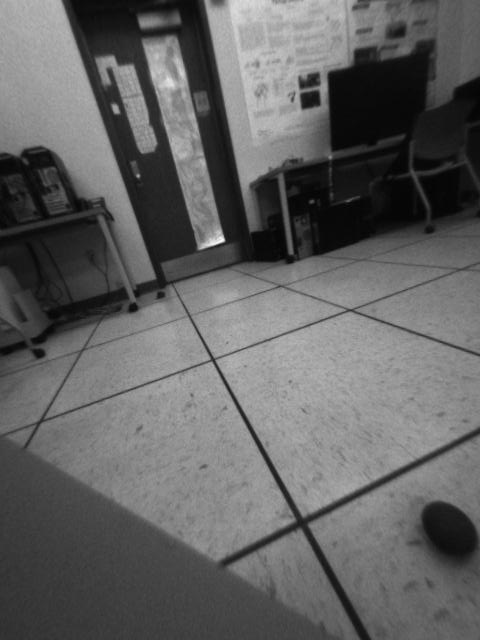dogtoy: (409, 493, 480, 566)
